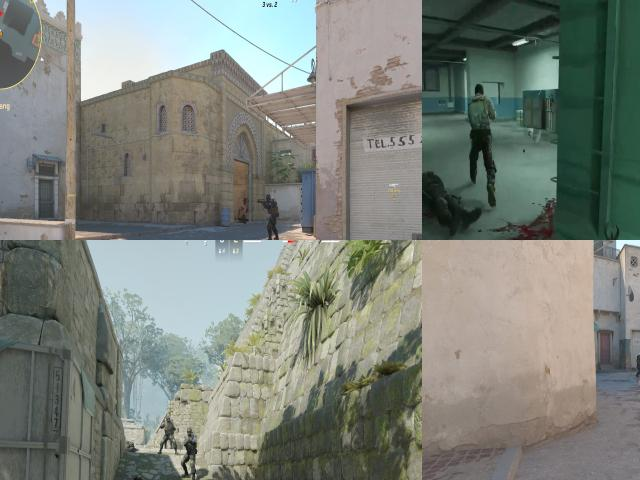CT: (178, 423, 203, 480), (264, 193, 278, 240), (161, 414, 176, 455), (636, 350, 640, 374)
CT-Head: (186, 425, 196, 438), (165, 414, 171, 426), (266, 194, 271, 201)
Dead: (422, 163, 468, 225), (238, 214, 249, 224)
T: (462, 90, 500, 143)
T-Head: (471, 78, 486, 103)
